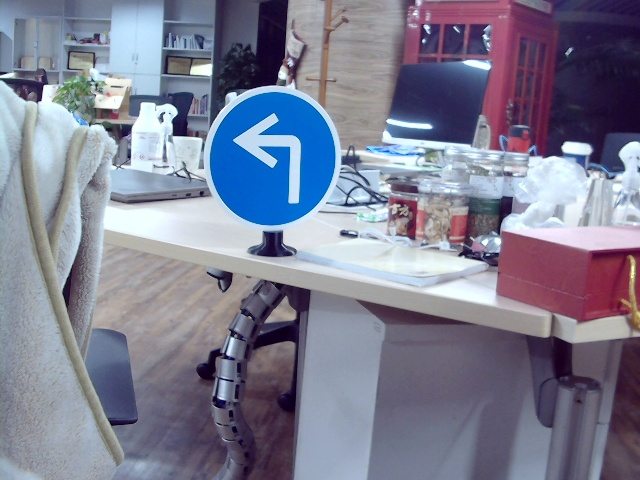turn_left: (233, 111, 307, 202)
